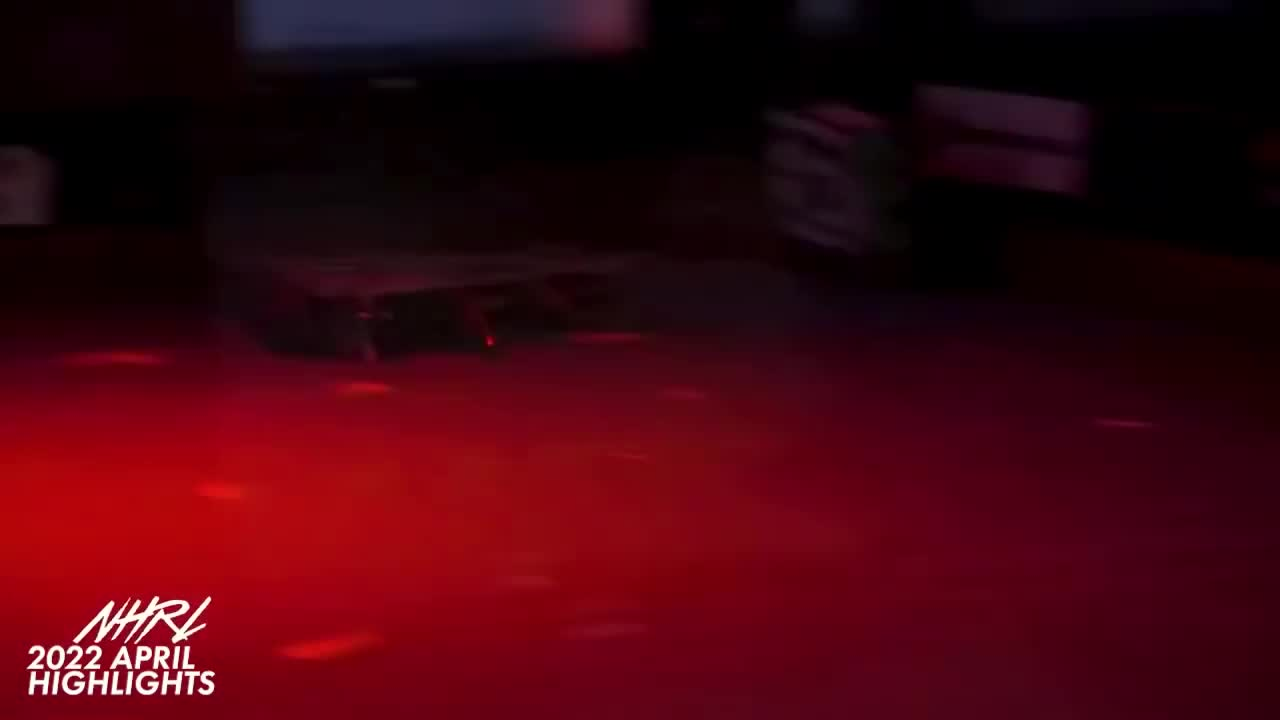combatbot: (259, 253, 561, 365)
